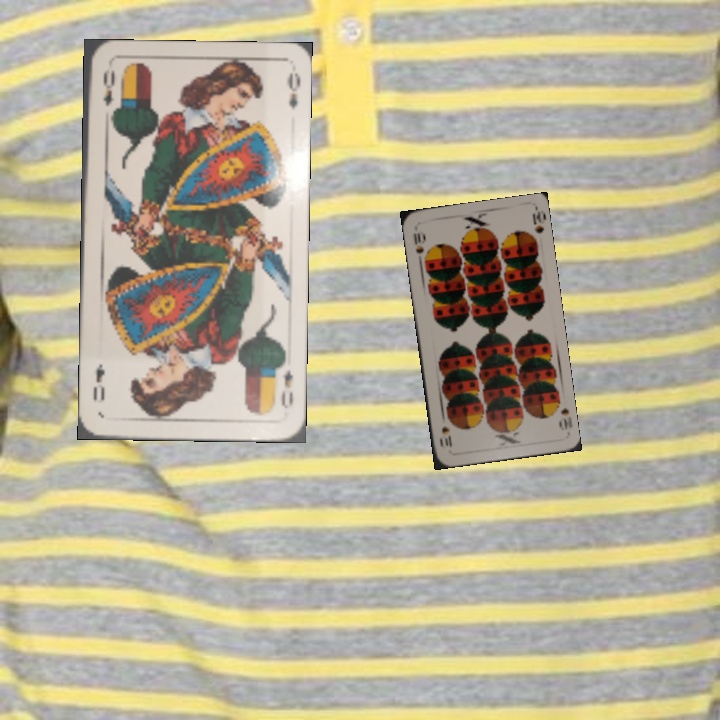EO: (271, 357, 296, 411), (99, 66, 117, 109)
S10: (551, 395, 574, 433), (409, 229, 427, 256)
